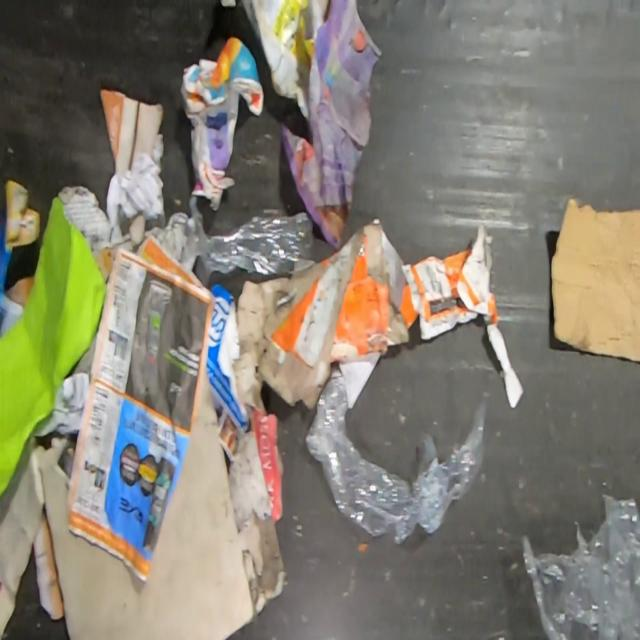cardboard: (43, 365, 256, 640), (230, 217, 420, 412), (550, 196, 640, 363)
soft_plastic: (303, 376, 492, 546), (400, 224, 524, 409), (520, 492, 639, 640), (188, 195, 314, 288), (99, 87, 164, 176)
